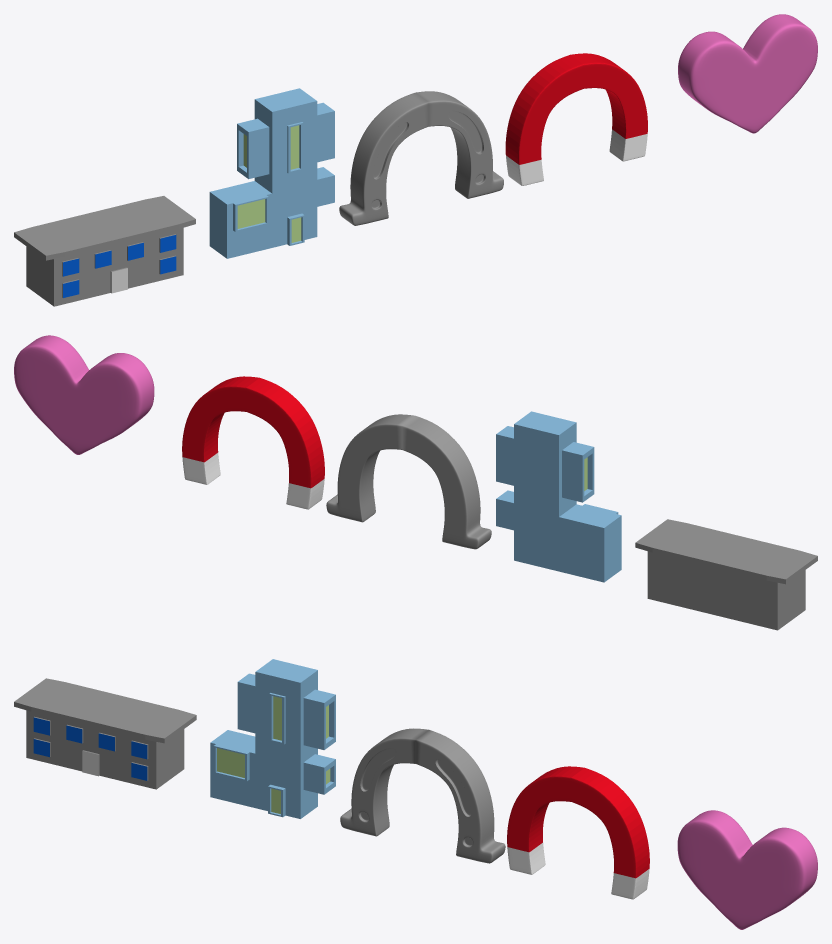
Rendered from van alles en nog wat7.fbx.
The picture shows the model from 3 angles, top to bottom: view 1: azimuth 30°, elevation 25°; view 2: azimuth 150°, elevation 25°; view 3: azimuth 330°, elevation 25°; orthographic projection.
Visible parts, largest first — view 1: Cube.027, Cube.026, Cube.030, Cube.028, Cube.029; view 2: Cube.027, Cube.026, Cube.030, Cube.028, Cube.029; view 3: Cube.027, Cube.026, Cube.030, Cube.028, Cube.029.
Part boxes in pixels (x1=…): Cube.027: x1=209, y1=88, x2=334, y2=258; Cube.026: x1=14, y1=196, x2=195, y2=306; Cube.030: x1=678, y1=14, x2=817, y2=133; Cube.028: x1=339, y1=91, x2=503, y2=225; Cube.029: x1=505, y1=53, x2=647, y2=185; Cube.027: x1=496, y1=411, x2=621, y2=582; Cube.026: x1=635, y1=519, x2=817, y2=630; Cube.030: x1=14, y1=335, x2=154, y2=454; Cube.028: x1=326, y1=414, x2=491, y2=549; Cube.029: x1=182, y1=376, x2=324, y2=509; Cube.027: x1=210, y1=659, x2=335, y2=818; Cube.026: x1=14, y1=678, x2=196, y2=789; Cube.030: x1=677, y1=810, x2=817, y2=929; Cube.028: x1=340, y1=728, x2=505, y2=863; Cube.029: x1=507, y1=766, x2=649, y2=899.
Size of the model in its own units: 31007 by 5324 by 2330.
